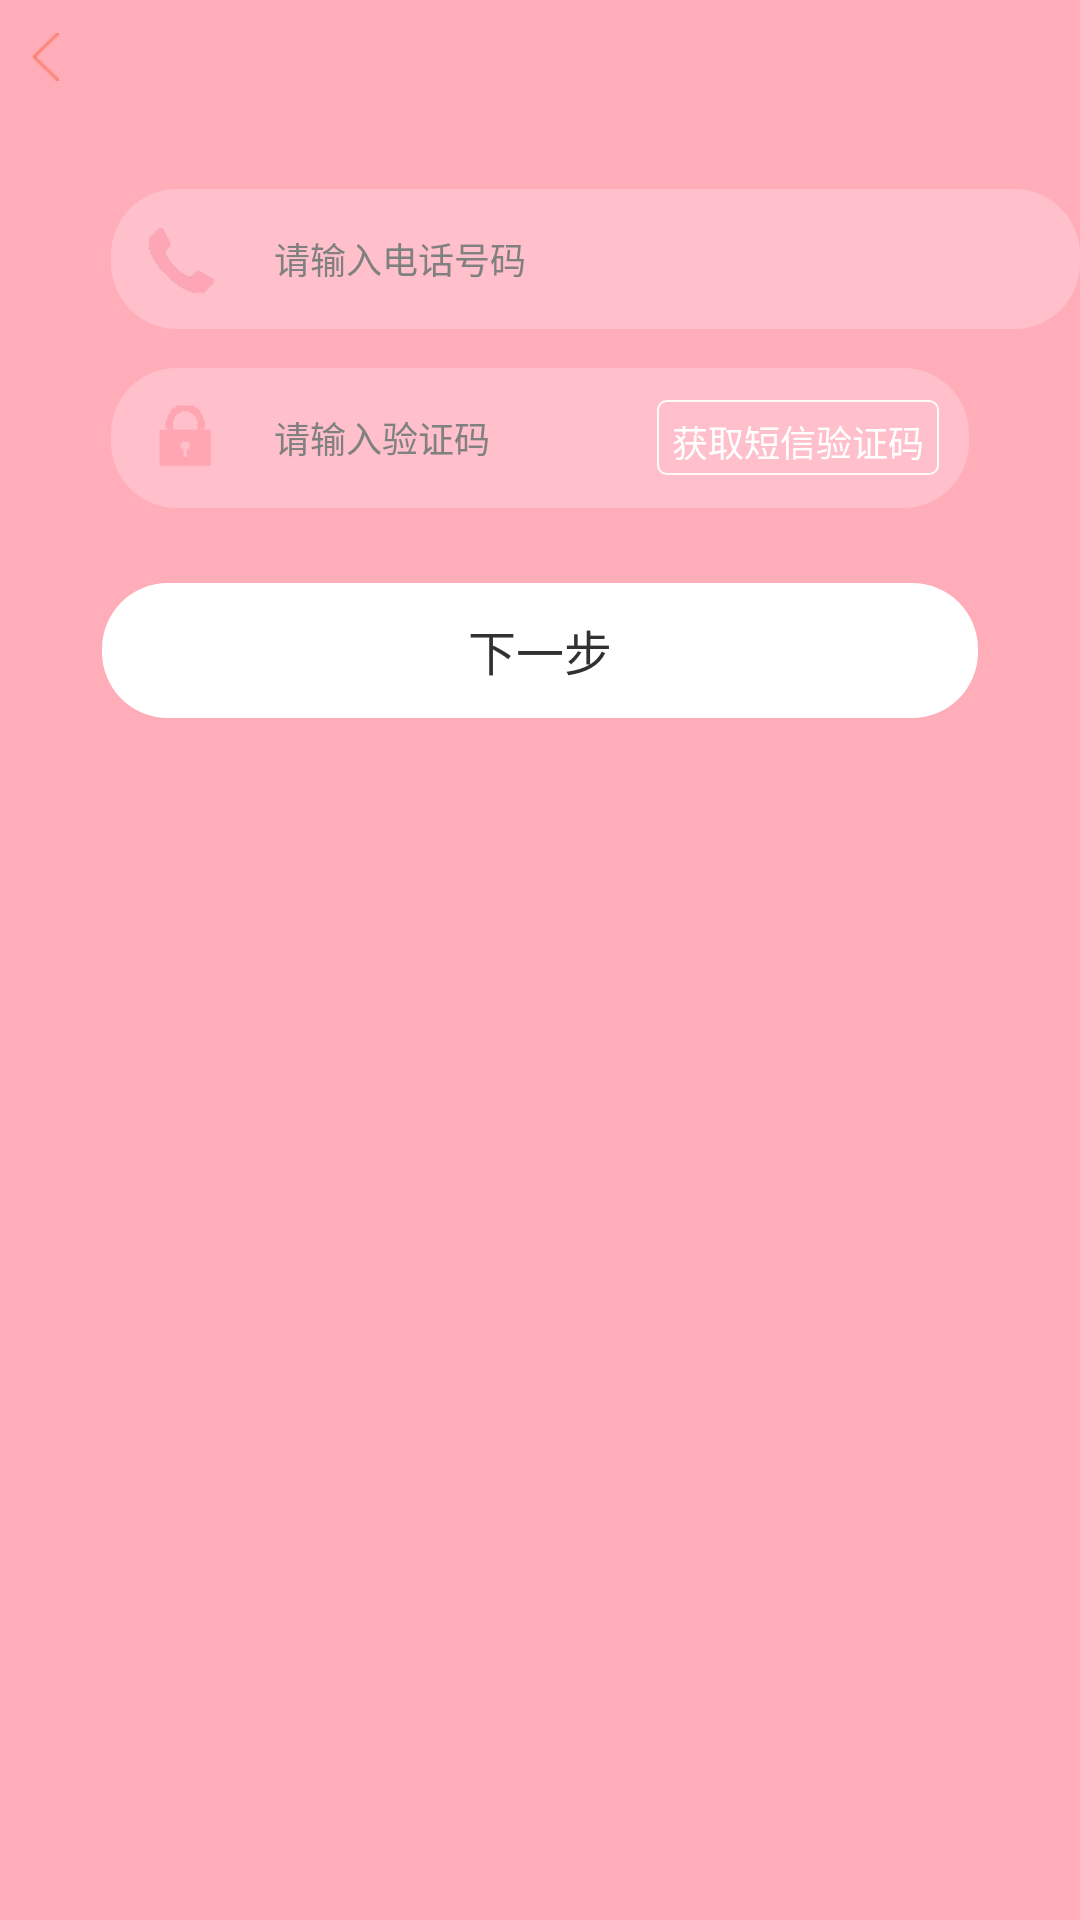

Locate icon controls on the screen. Image size 1080px x 1920px, boxes as {"x1": x1, "y1": y1, "x2": x2, "y2": y2}.
back before: {"x1": 33, "y1": 33, "x2": 59, "y2": 81}
